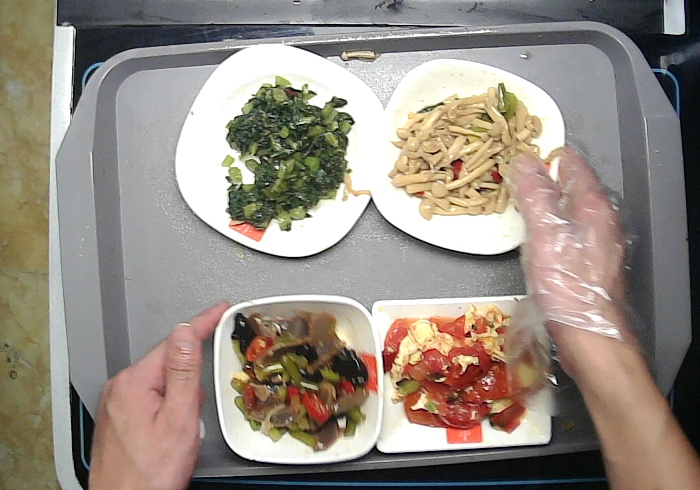SHKJ-Bai_Se_Cai_Die: (366, 56, 569, 258)
SHKJ-Bai_Se_Si_Fang_Cai_Die: (174, 42, 386, 259)
SHKJ-Bai_Se_Xiao_Fang_Die: (209, 292, 389, 466)
SHKJ-Si_Fang_Min: (367, 292, 556, 454)
